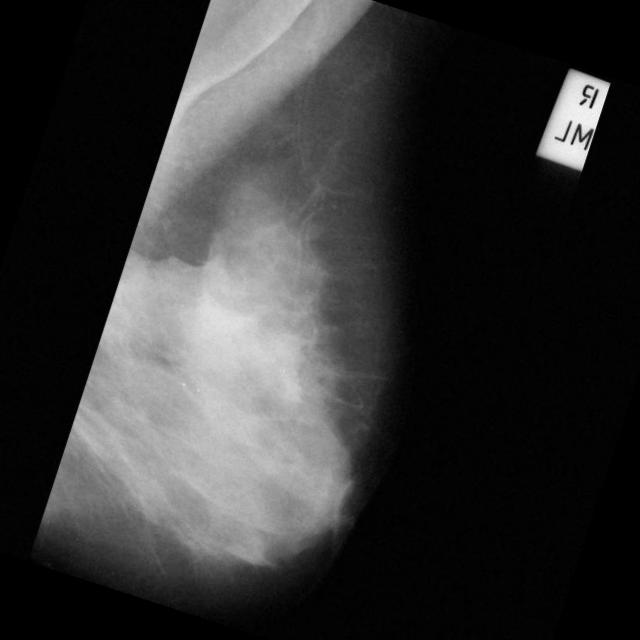ASYM: (72, 268, 153, 349)
